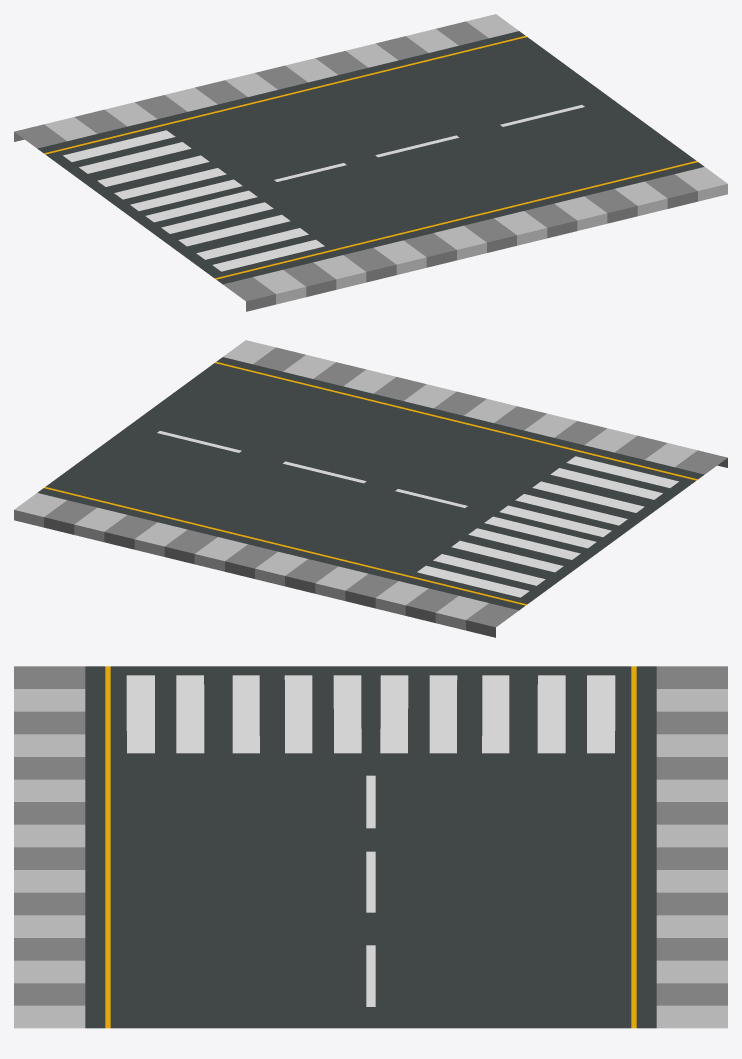
Rendered from SM_Road_04.FBX.
The picture shows the model from 3 angles, top to bottom: view 1: azimuth 30°, elevation 25°; view 2: azimuth 150°, elevation 25°; view 3: azimuth 270°, elevation 25°; orthographic projection. The views are drawn at different scales.
Visible parts, largest first — view 1: SM_Road_04; view 2: SM_Road_04; view 3: SM_Road_04.
Boxes of the visible parts, x1,y1,x2,y2 form: SM_Road_04: (14,14,727,311); SM_Road_04: (14,340,727,637); SM_Road_04: (14,666,727,1028).
Size of what is drawn, in the model's own units: 1200 by 1000 by 25.
